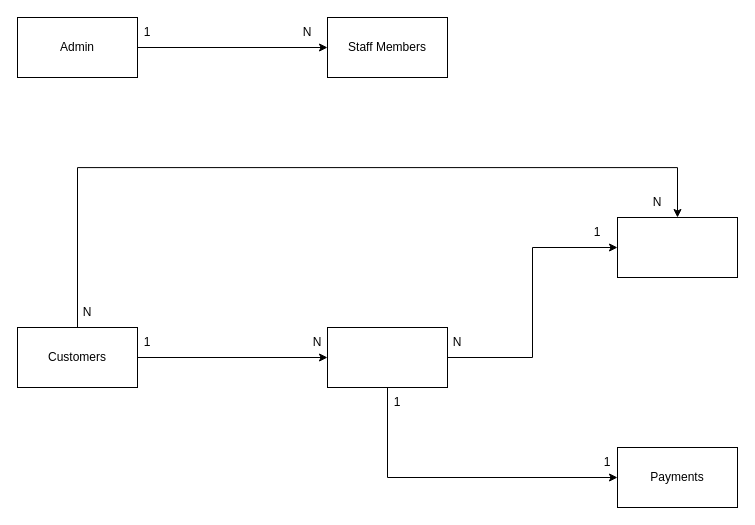
Image size: 755x525. Some labels were removed from this diagram. The shapes that lost their labels are listed below. From the top down, each one's centre as x and y in pixels, then its label:
pixel 677 247: Vehicles
pixel 387 357: Bookings
